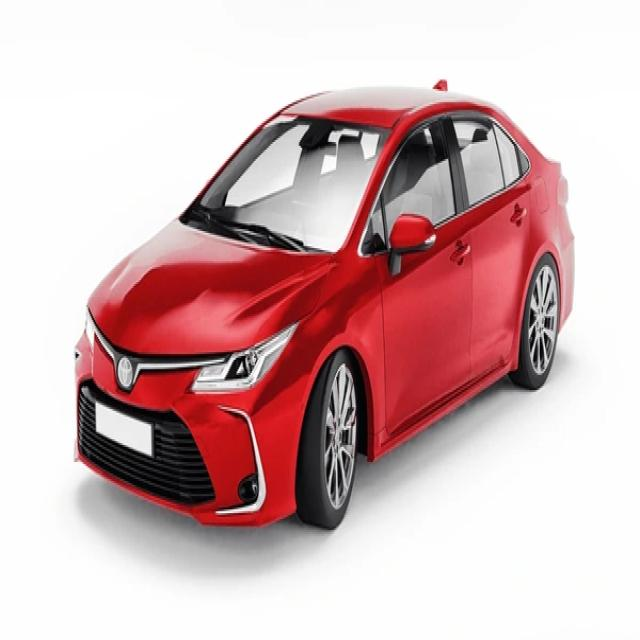toyota: (116, 356, 138, 389)
